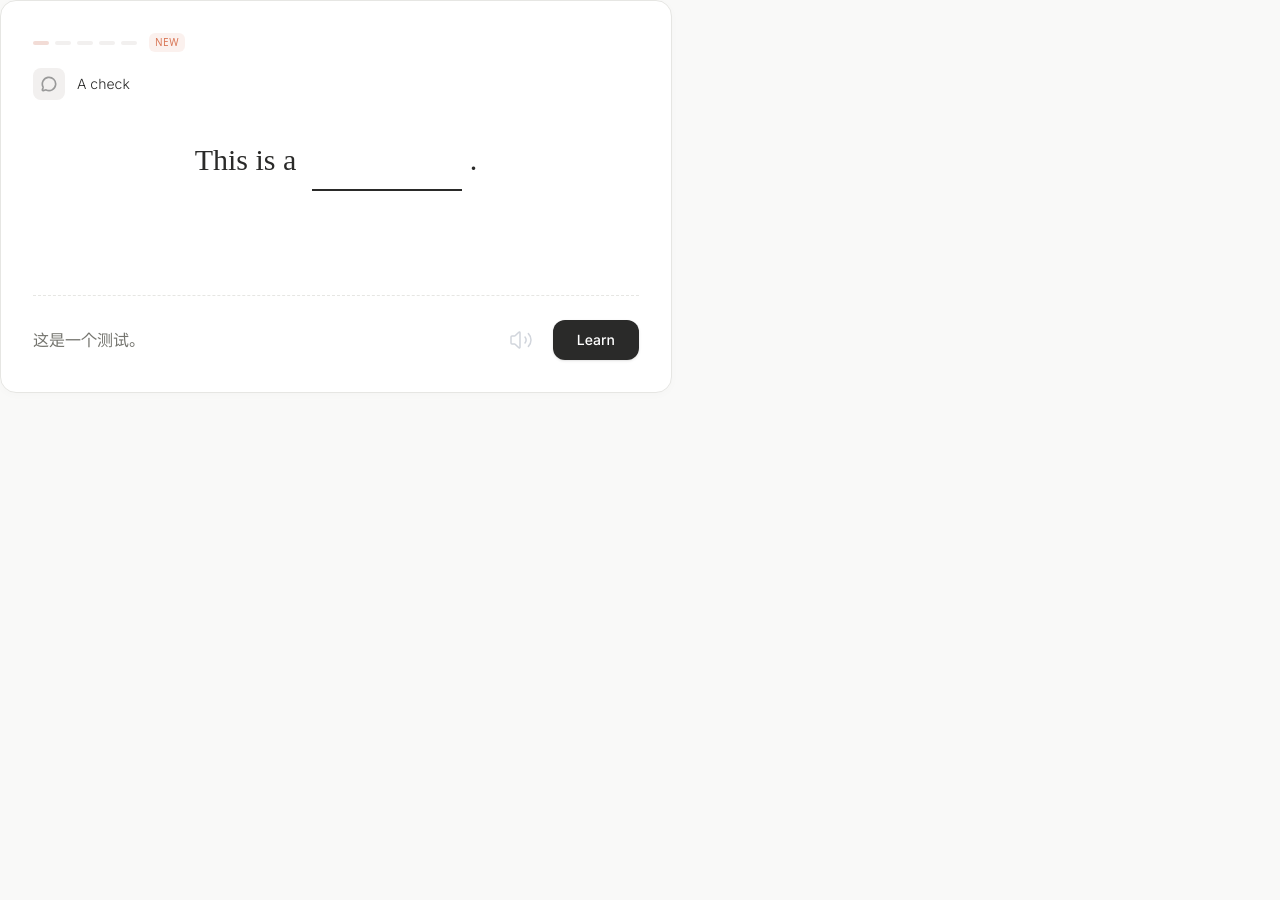
Flashcard component › opens and closes proficiency level modal
The image size is (1280, 900).
Find the proficiency indicator by its testId
Click the element with test id "proficiency-indicator-container": (109, 42) [33, 33, 185, 52]
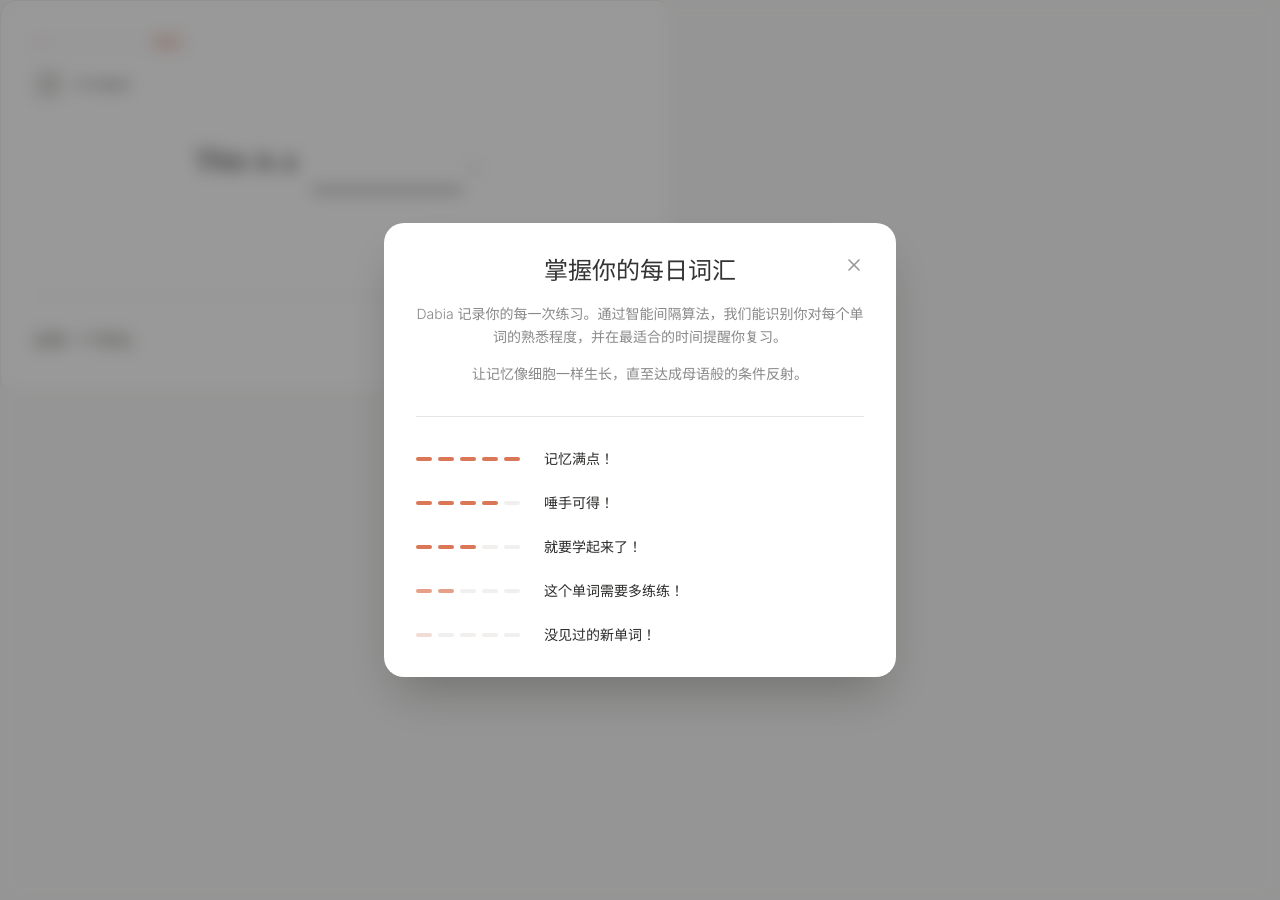
Now the heading "掌握你的每日词汇" is shown, box [544, 258, 736, 284]
Close the modal
Click the button named "close": (854, 265) [836, 247, 872, 283]
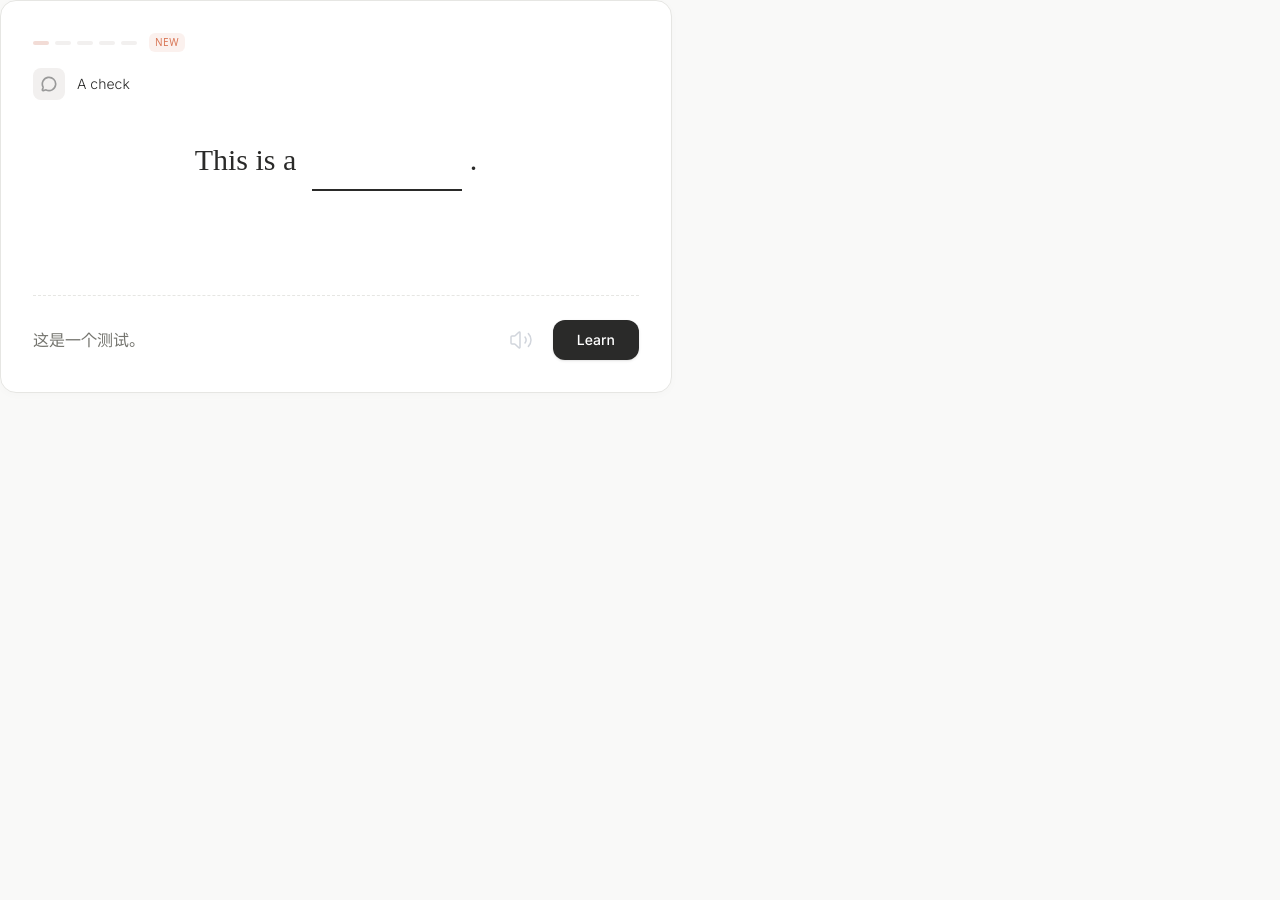
Now the heading "掌握你的每日词汇" is gone
